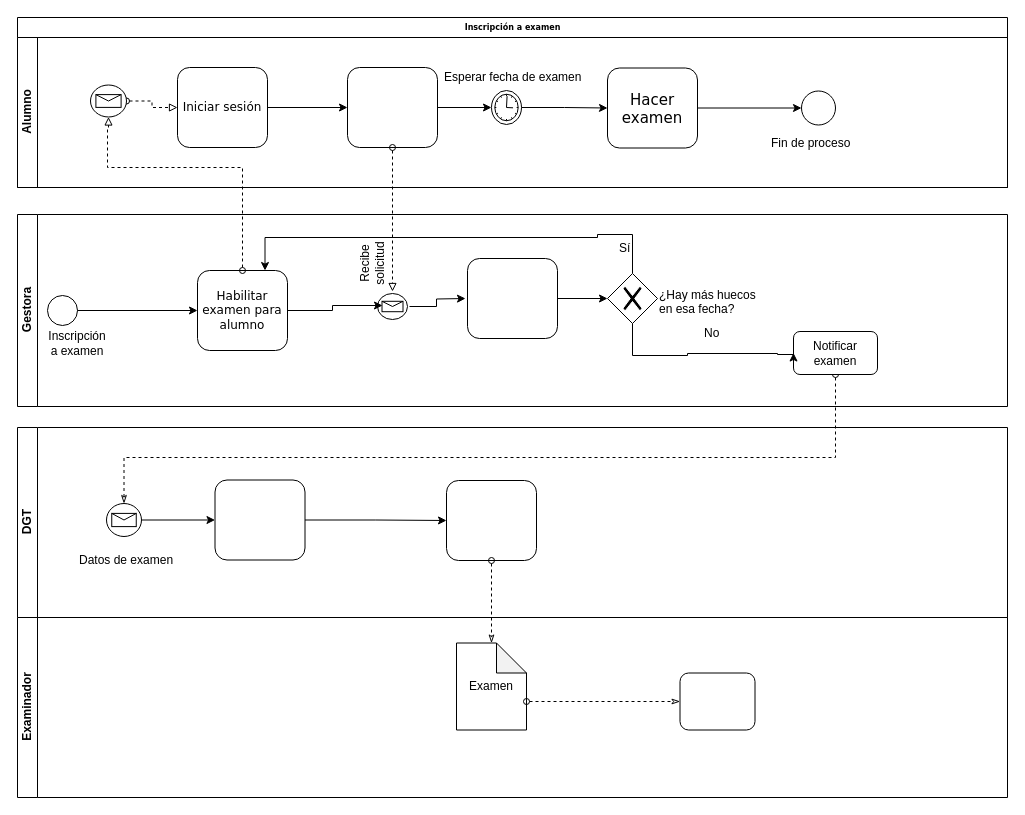
Some shapes in this 1025 by 815 pixel diagram are drawn without their labels. The shapes that lost their labels are listed below. From the top down, each one's centre as x and y in pixels, then its label:
the point at 392,107: Escoger fecha para examen
the point at 512,298: Apuntar alumno a examen
the point at 259,519: Introducir datos
the point at 491,520: Asignar examinador
the point at 717,701: Apuntar fecha
